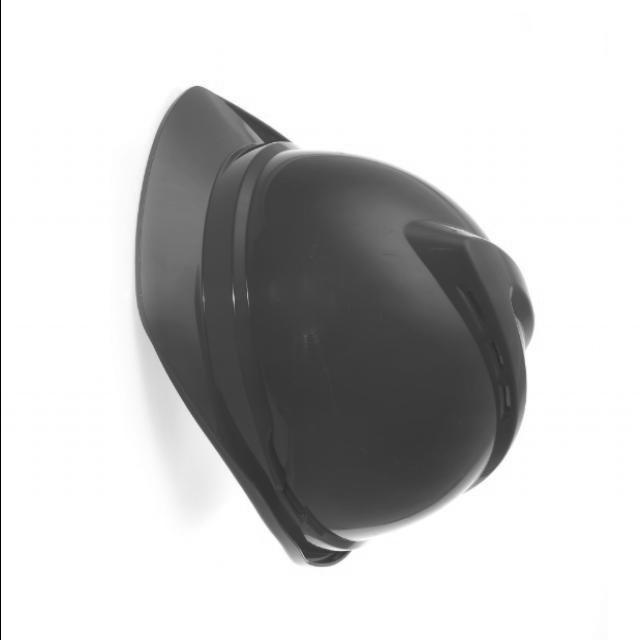safety_helmet: (130, 84, 532, 569)
